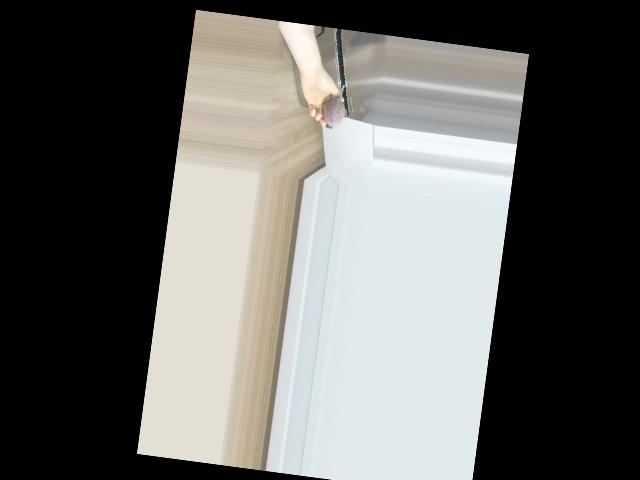beet: (320, 83, 347, 130)
